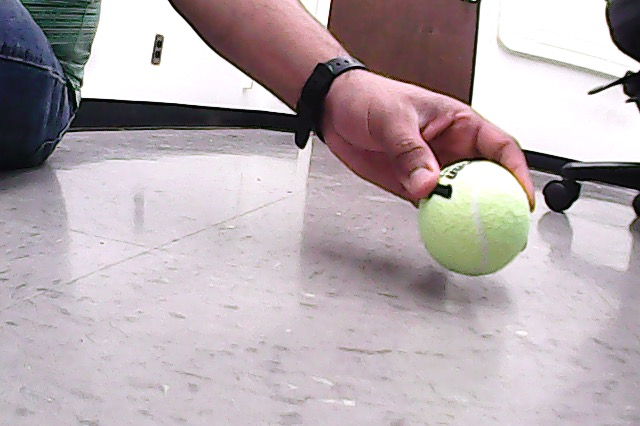ball: (419, 160, 531, 276)
